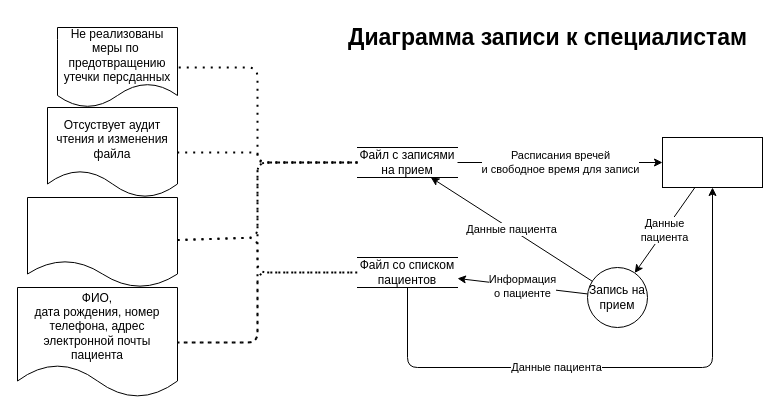
The diagram is 780 pixels wide and 415 high, and some of its shapes have lost their labels. The shapes that lost their labels are listed below. From the top down, each one's centre as x and y in pixels, then its label:
(712,162): Ресепшн
(102,242): Файл не защищен от изменения другими сотрудниками
